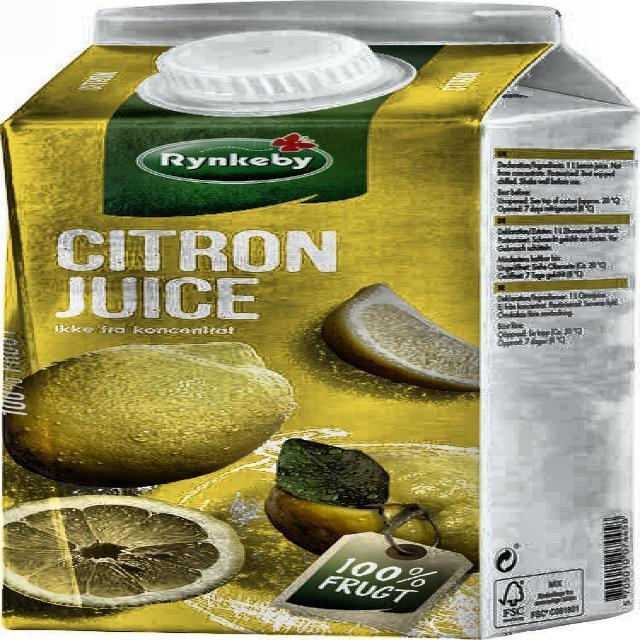cardboard: (4, 1, 634, 638)
